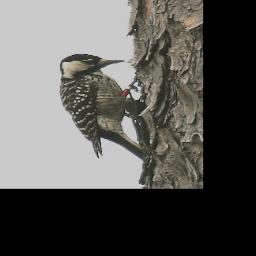Woodpecker: (59, 53, 151, 161)
